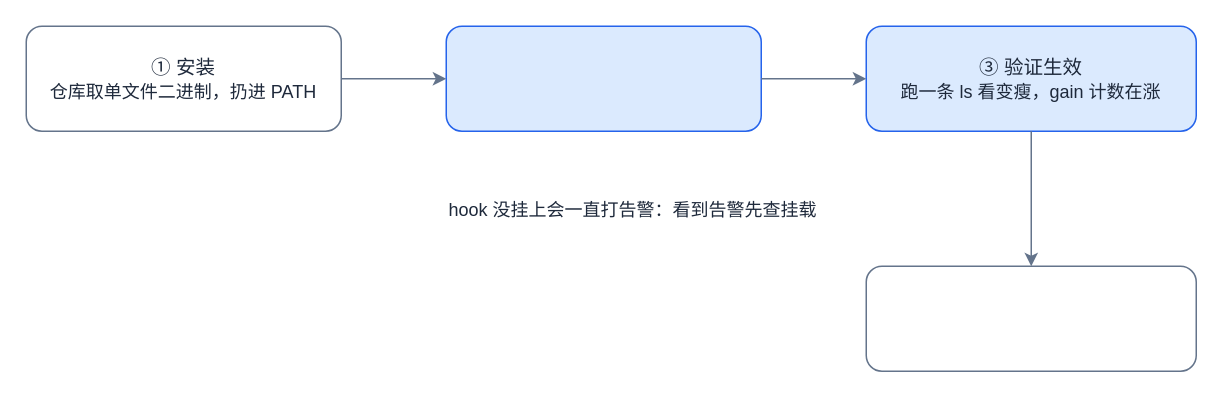
The diagram is 1223 pixels wide and 398 high, and some of its shapes have lost their labels. Here are the shapes that lost their labels. From the top down, the box of each, then its label:
(445, 25, 761, 131): ② 注册 hook rtk init -g 挂到助手命令层
(865, 265, 1196, 371): ④ 日常复盘 每周 gain 看构成，核对类走 proxy
